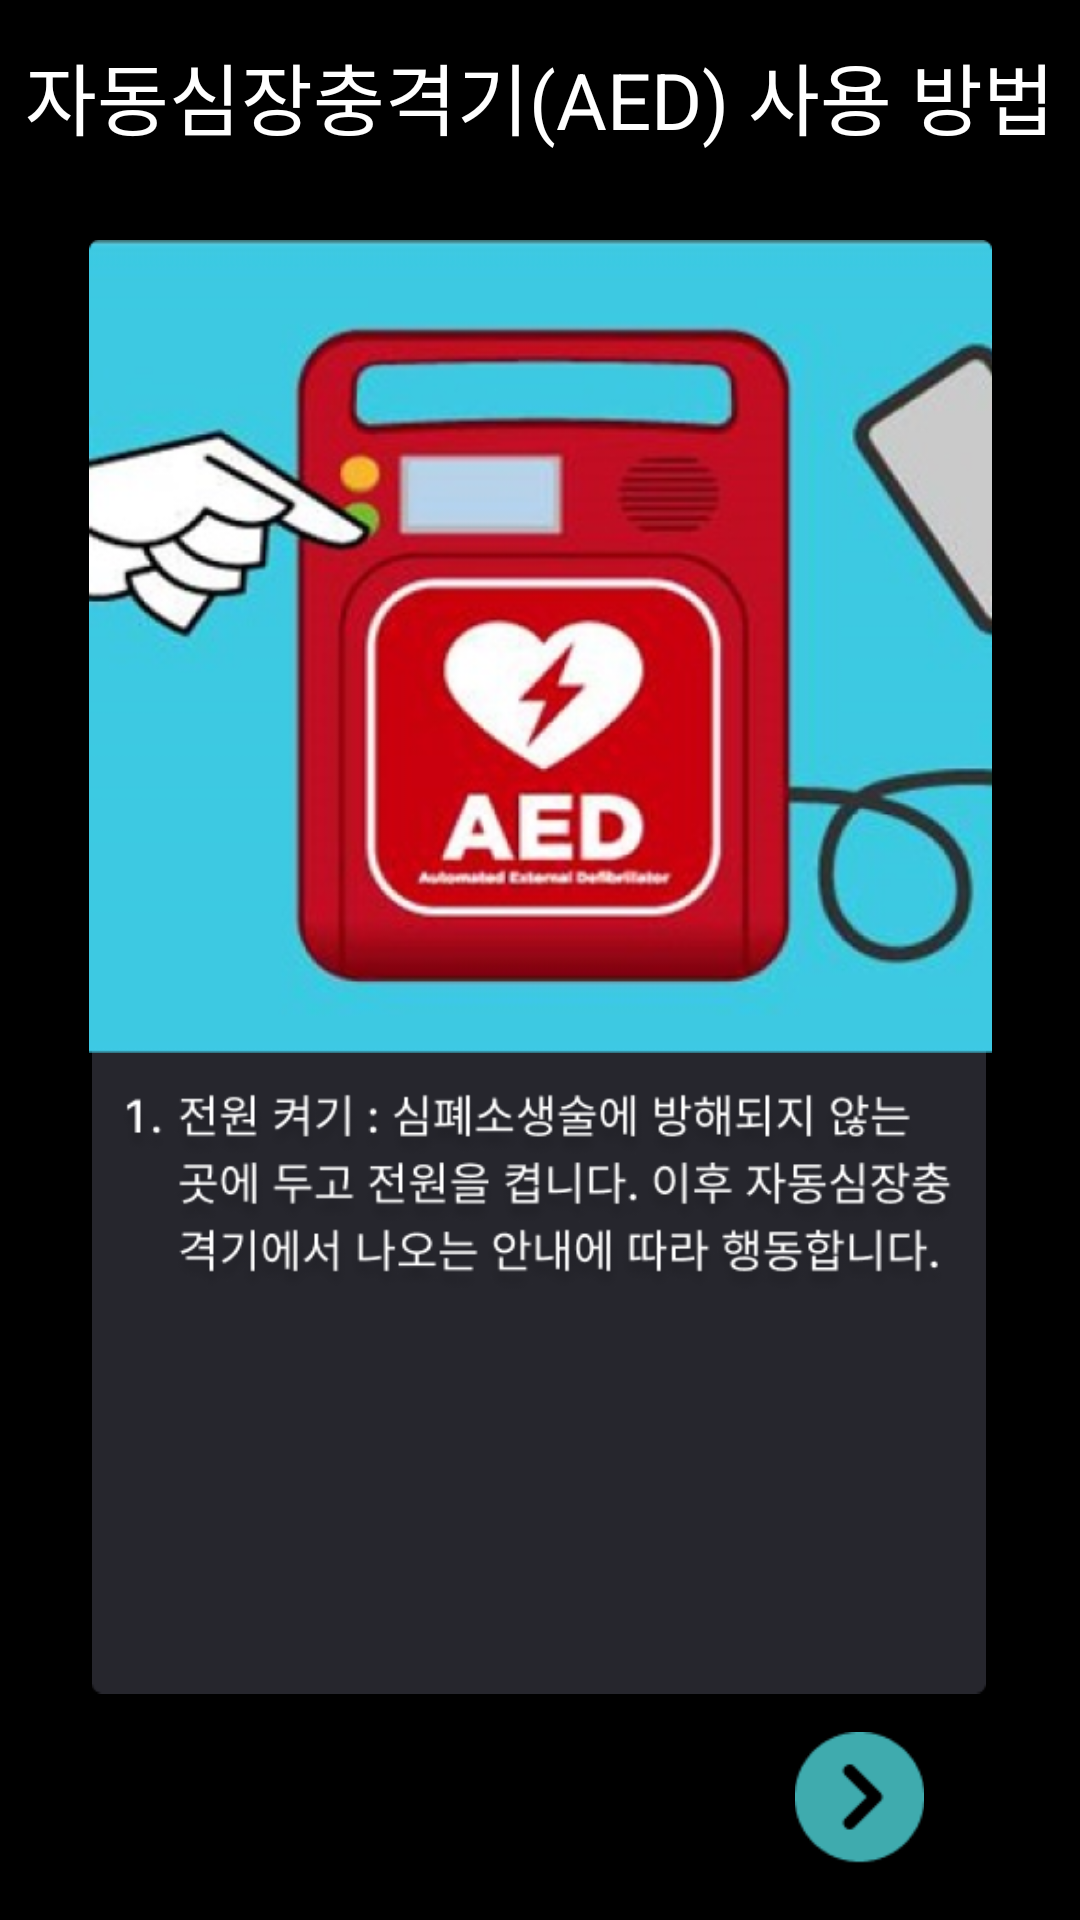

Screen size 1080*1920. Icon name, then its center in pixels as point (x, y):
edu next page: point (859, 1797)
